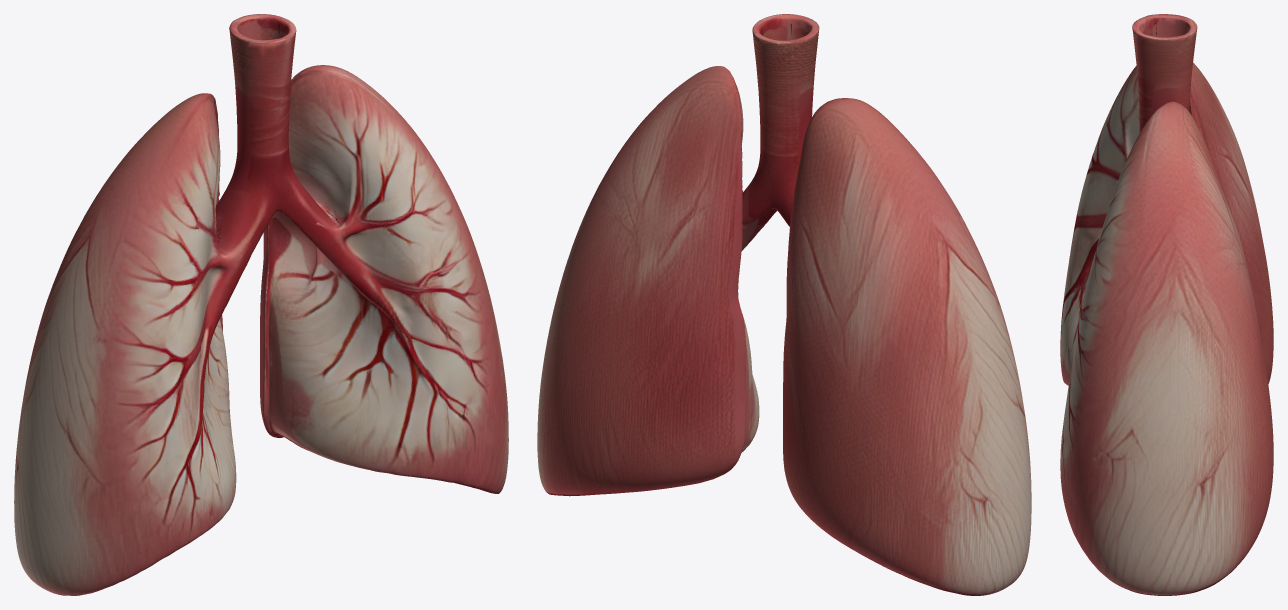
Rendered from vet_v2_organ_cat_lungs.glb.
The picture shows the model from 3 angles, left to right: view 1: azimuth 30°, elevation 25°; view 2: azimuth 150°, elevation 25°; view 3: azimuth 270°, elevation 25°; orthographic projection. The views are drawn at different scales.
Visible parts, largest first — view 1: model; view 2: model; view 3: model.
Part boxes in pixels (x1,y1,x2,y2): model: (14, 14, 508, 595); model: (537, 14, 1031, 595); model: (1060, 14, 1273, 595).
Bounding box in the file's own units: 1.84 × 1.9 × 0.7849.
1 material, 1 textured.
